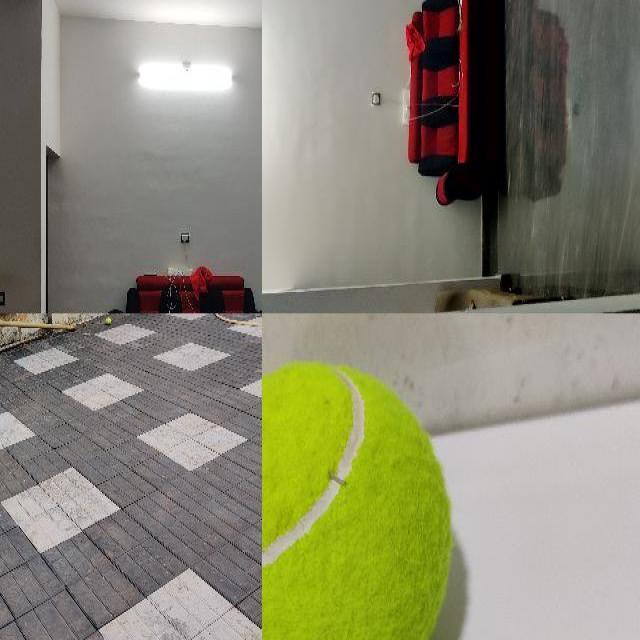tennis-ball: (262, 359, 456, 639), (106, 318, 111, 326)
